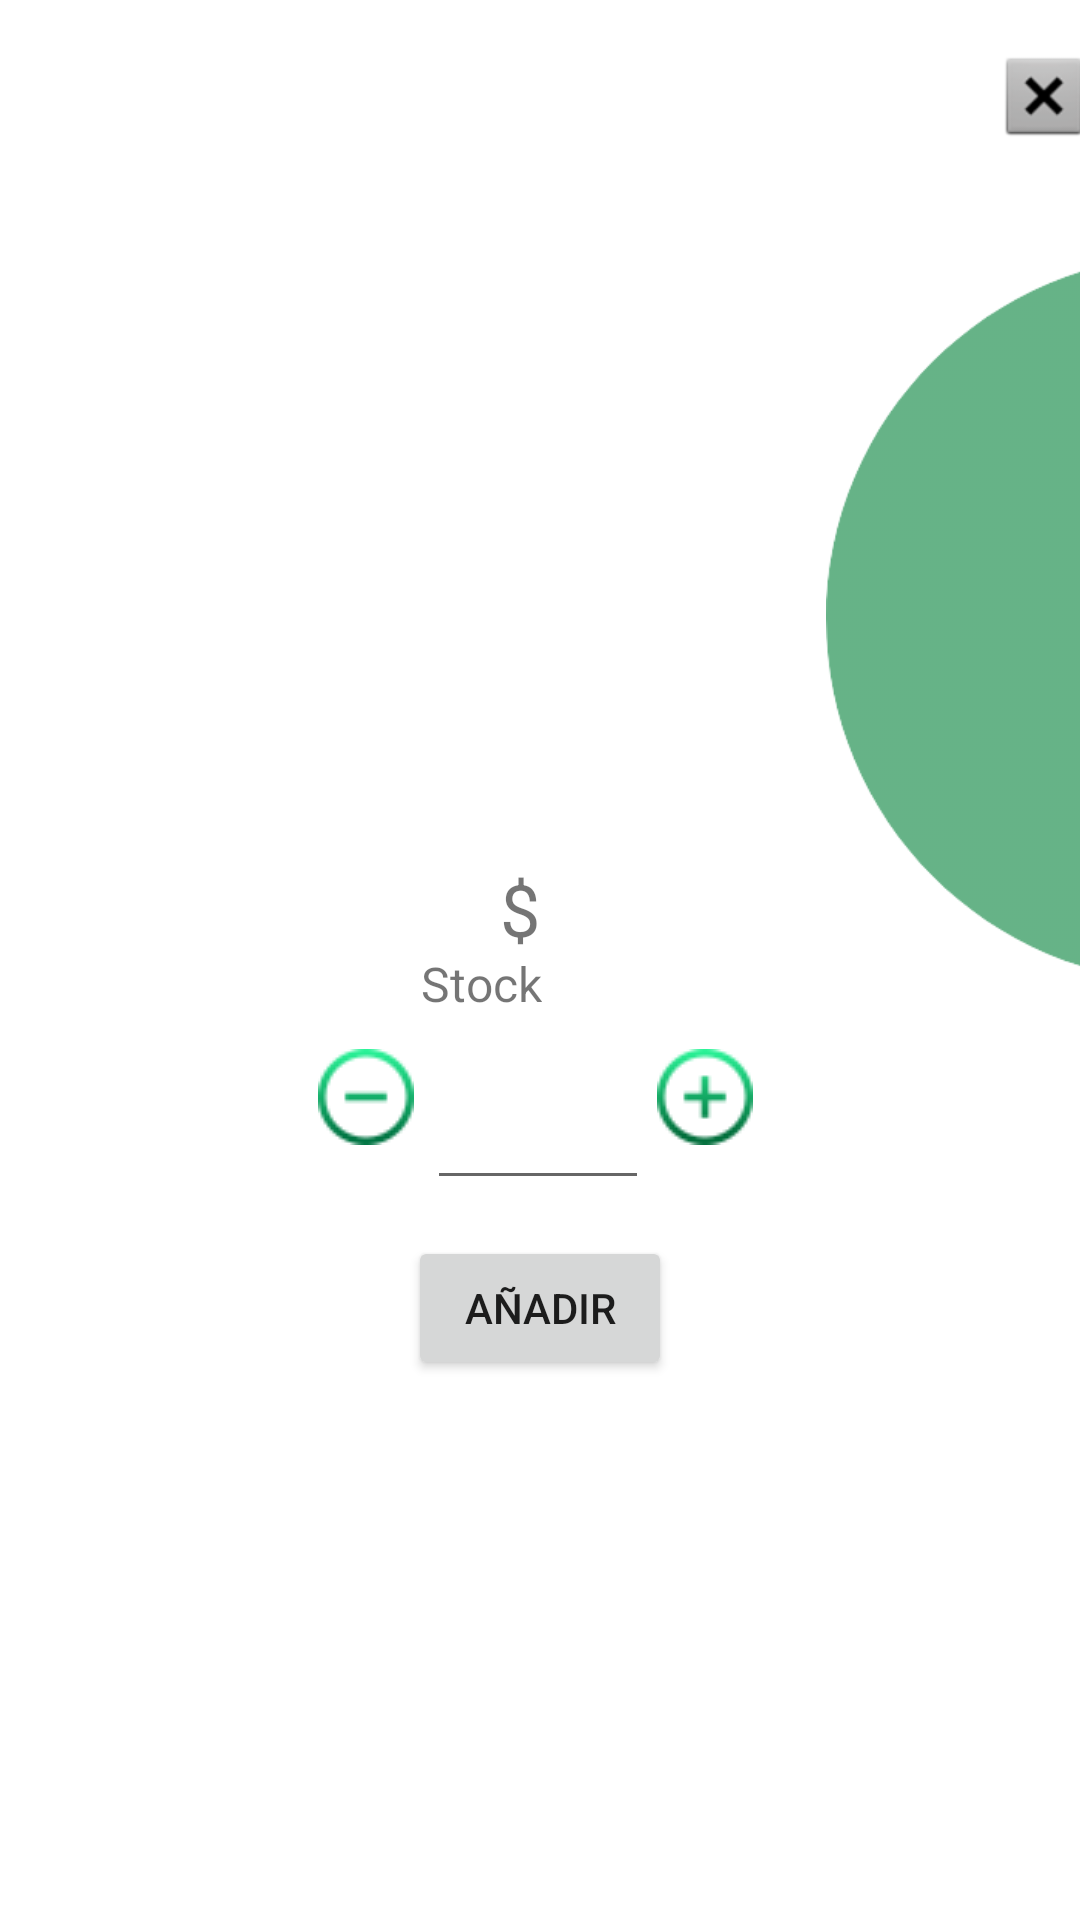

Where to tap for icons on this 1080w x 1920h app screen, as (x=x, y=y):
addproduct: (x=705, y=1097)
removeproduct: (x=366, y=1097)
